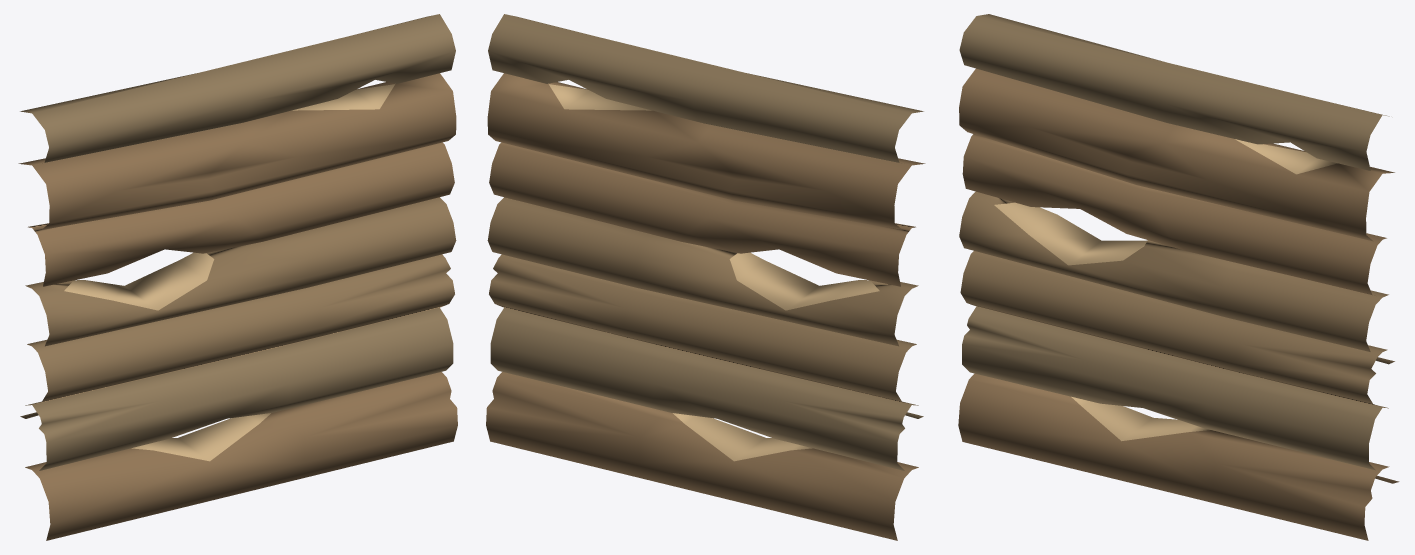
Rendered from rpgpp_av_wall_03_3x3_a.gltf.
The picture shows the model from 3 angles, left to right: view 1: azimuth 30°, elevation 25°; view 2: azimuth 150°, elevation 25°; view 3: azimuth 330°, elevation 25°; orthographic projection.
Parts seen in each view (by area): view 1: rpgpp_av_wall_03_3x3_a; view 2: rpgpp_av_wall_03_3x3_a; view 3: rpgpp_av_wall_03_3x3_a.
Boxes of the visible parts, x1,y1,x2,y2 form: rpgpp_av_wall_03_3x3_a: [18, 14, 457, 540]; rpgpp_av_wall_03_3x3_a: [486, 14, 925, 540]; rpgpp_av_wall_03_3x3_a: [958, 14, 1399, 540].
Bounding box in the file's own units: 0.03 × 0.03 × 0.00463.
Materials: 1 (1 with a texture image).
